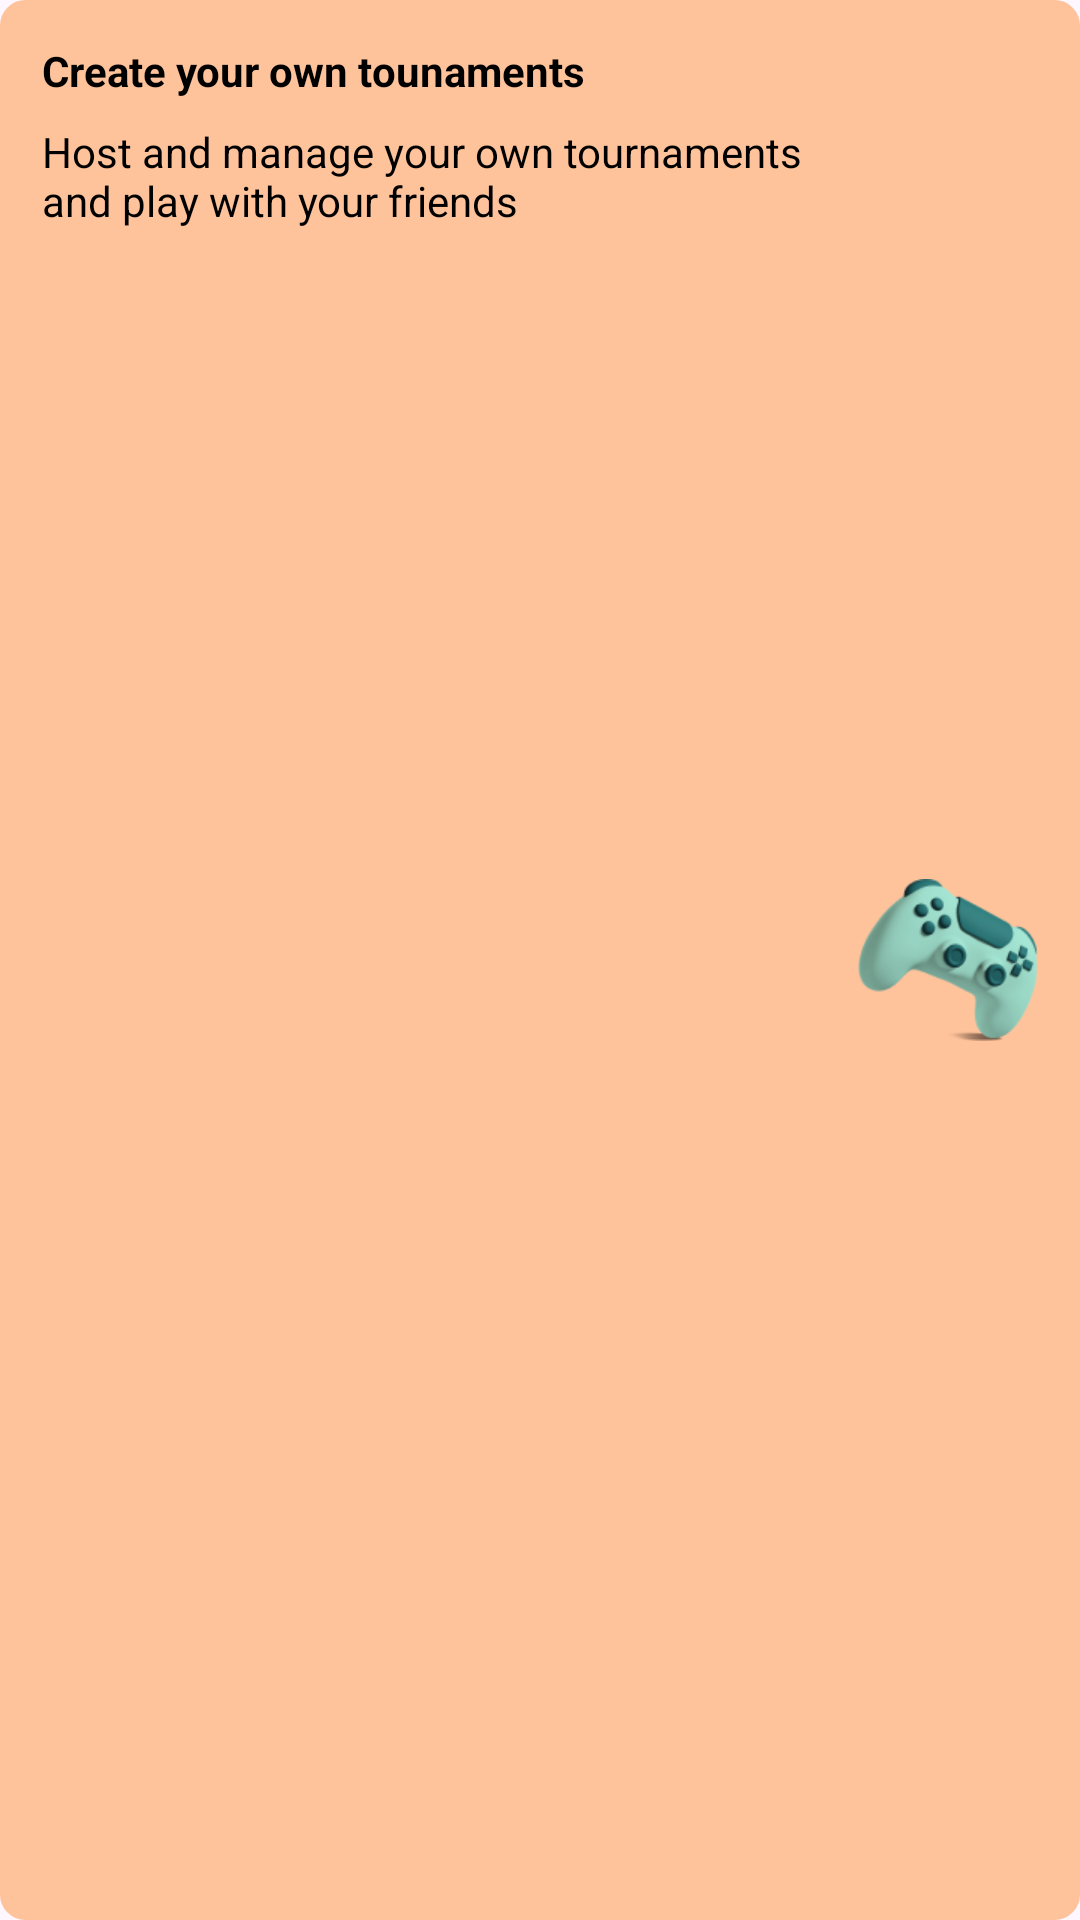

Where icons sit on this 1080px×1920px app screen, as (left=x1, top=y1, right=x2, bottom=y2):
controller: (left=858, top=879, right=1038, bottom=1041)
